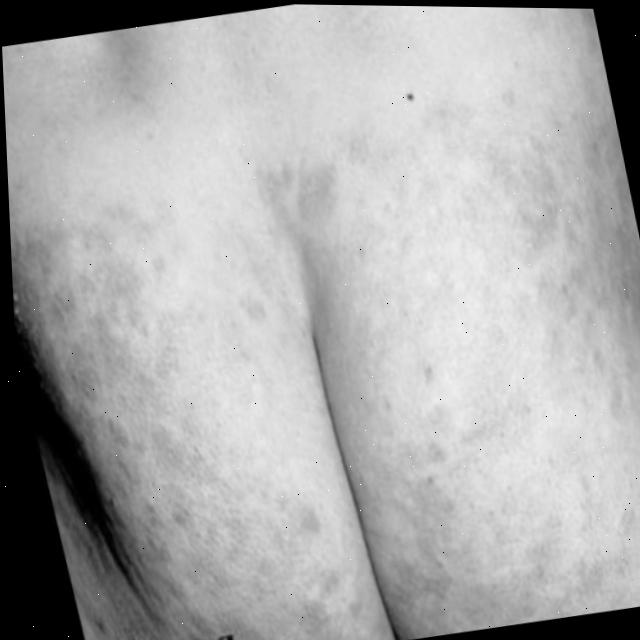Eczema: (5, 109, 640, 633)
